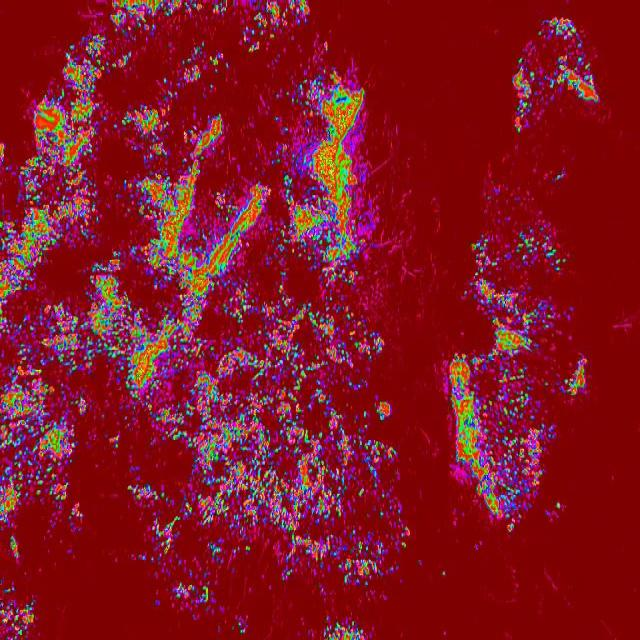fire: (0, 82, 403, 560), (62, 0, 312, 82), (448, 348, 556, 527), (470, 225, 564, 349), (506, 64, 542, 136), (548, 56, 600, 104), (0, 579, 40, 640), (162, 577, 214, 618), (320, 612, 381, 640), (336, 560, 379, 590), (542, 15, 584, 44), (562, 357, 590, 397)
